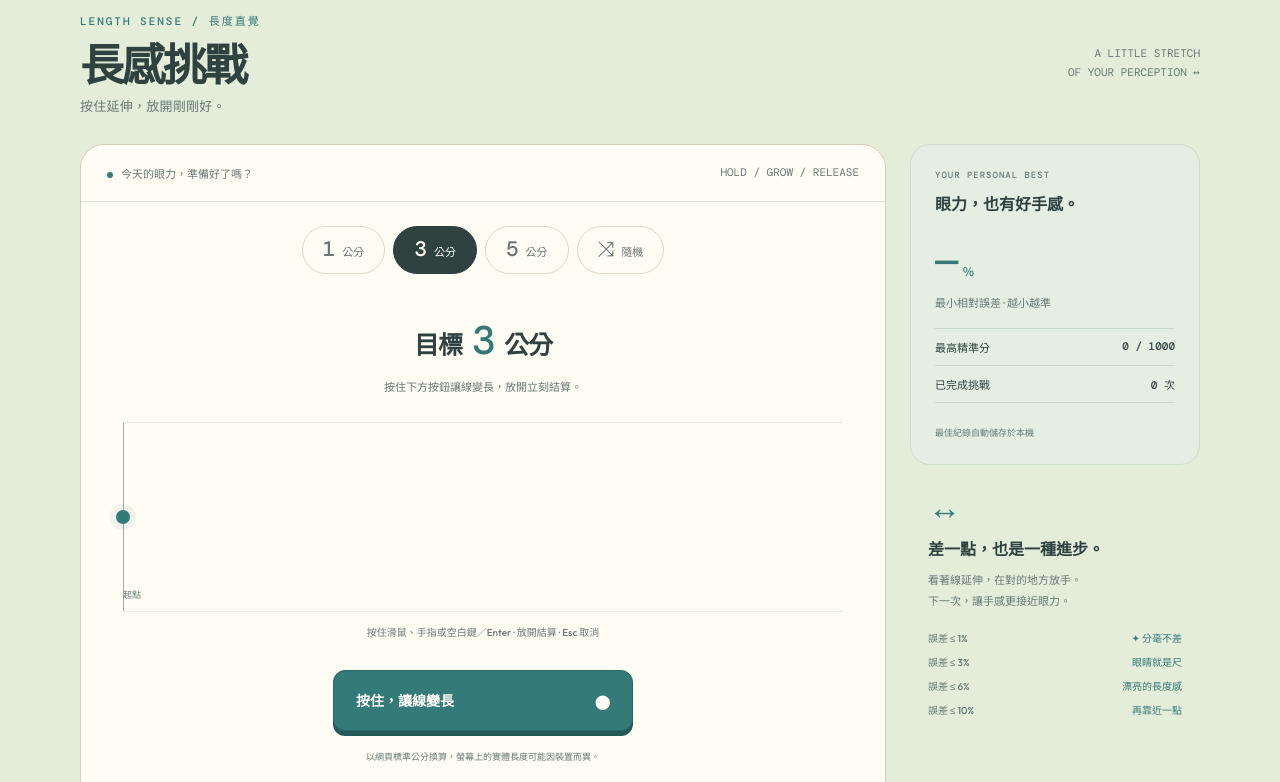
Length Sense hold and release › ignores secondary pointers and auto-settles at the maximum once
Press the mouse on the button with aria-label "按住讓線變長": (405, 701) left=333, top=670, right=633, bottom=731
Press the mouse on the button with aria-label "按住讓線變長": (405, 701) left=333, top=670, right=633, bottom=731
Press the mouse on the button with aria-label "按住讓線變長": (405, 701) left=333, top=670, right=633, bottom=731
(page scrolled)
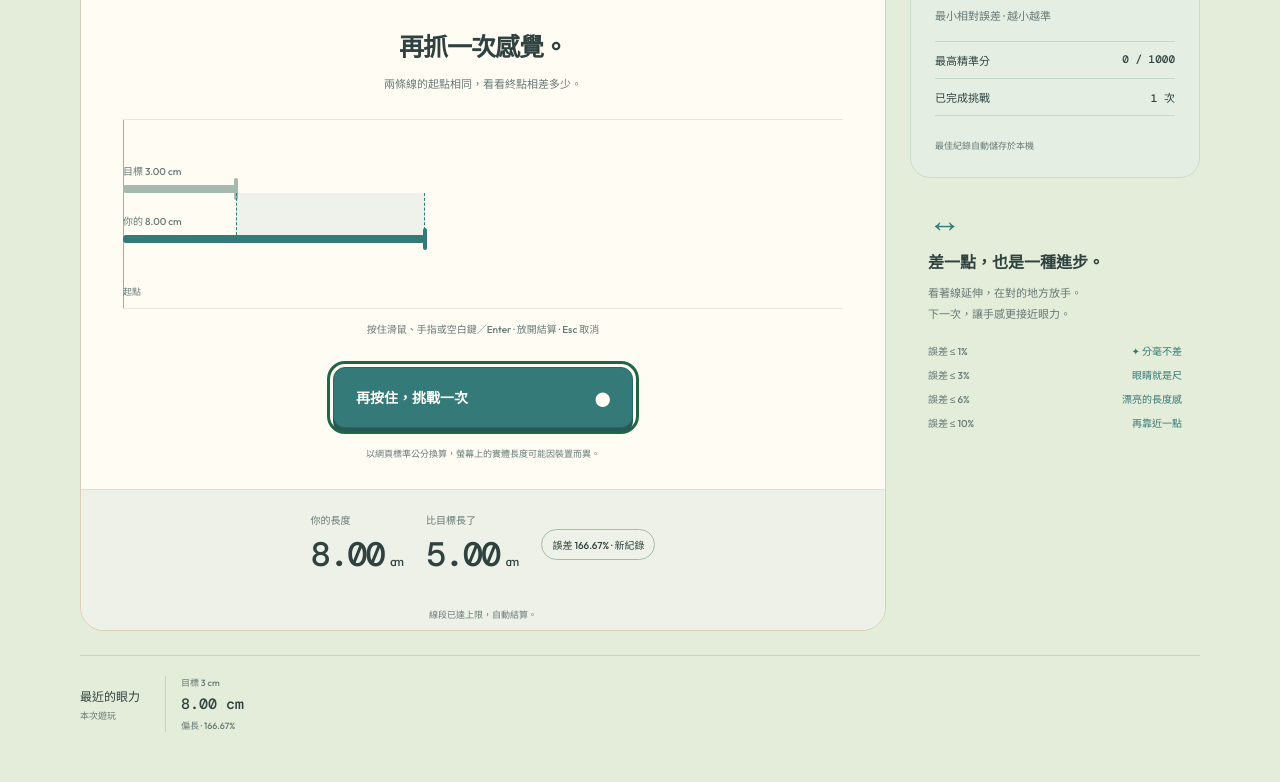
Expected: the button named "放開結算" is shown, left=333, top=367, right=633, bottom=428
Result: the text "線段已達上限，自動結算。" is shown at left=81, top=599, right=885, bottom=630
Result: the message shows "8.00cm" at left=81, top=489, right=885, bottom=599
